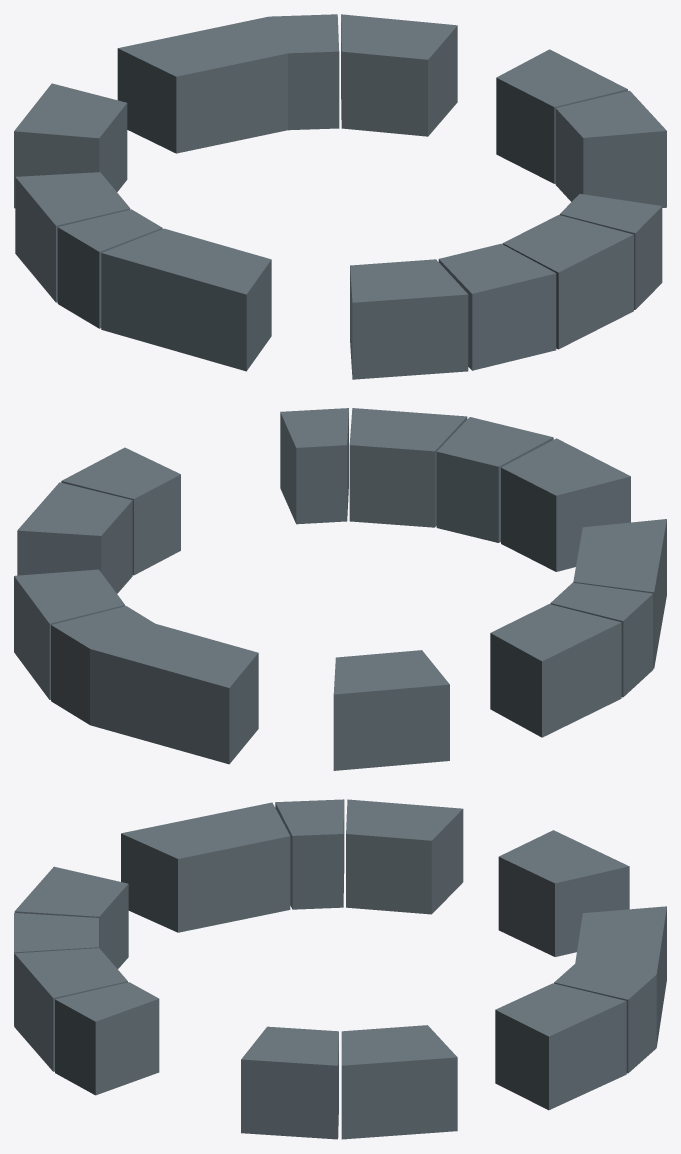
Rendered from Firepit.fbx.
The picture shows the model from 3 angles, top to bottom: view 1: azimuth 30°, elevation 25°; view 2: azimuth 150°, elevation 25°; view 3: azimuth 270°, elevation 25°; orthographic projection. The views are drawn at different scales.
Visible parts, largest first — view 1: Cube.009; view 2: Cube.009; view 3: Cube.009.
Boxes of the visible parts, left/top/right/bottom form: Cube.009: left=14, top=14, right=666, bottom=379; Cube.009: left=14, top=408, right=666, bottom=770; Cube.009: left=14, top=799, right=666, bottom=1139.
Bounding box in the file's own units: 429 × 55.44 × 445.
